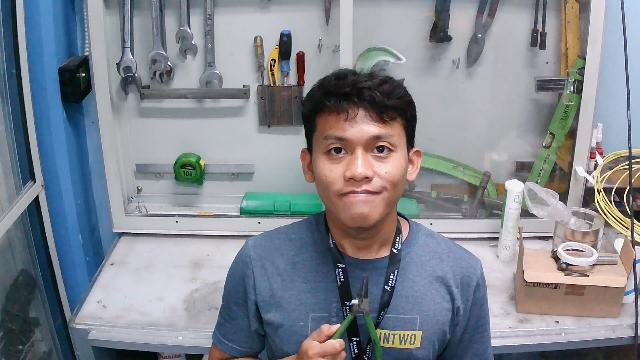tang_cucut_lancip_2: (297, 273, 390, 358)
